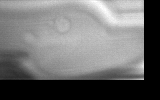cell: (51, 15, 72, 35), (18, 29, 37, 47)
